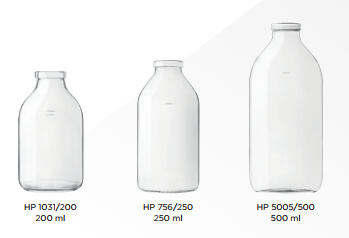glass_bottle: (246, 20, 325, 196), (14, 68, 93, 195), (133, 56, 202, 195)
